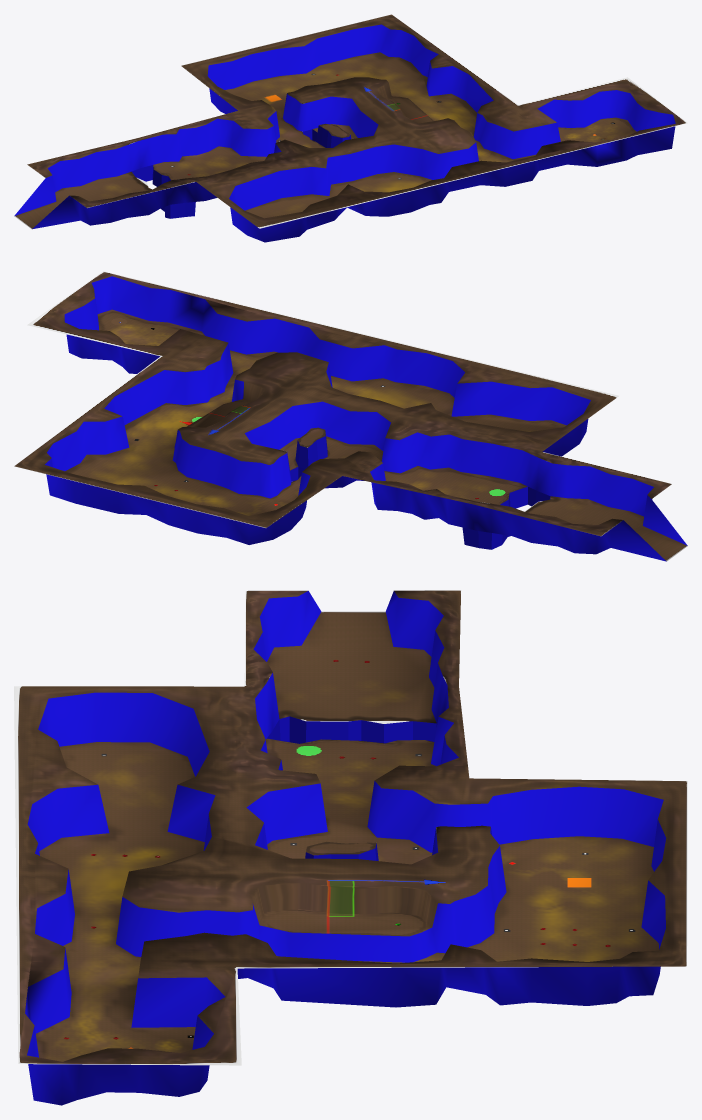
File: levelMesh.fbx
The picture shows the model from 3 angles, top to bottom: view 1: azimuth 30°, elevation 25°; view 2: azimuth 150°, elevation 25°; view 3: azimuth 270°, elevation 25°; orthographic projection. The views are drawn at different scales.
Visible parts, largest first — view 1: Plane001; view 2: Plane001; view 3: Plane001.
Boxes of the visible parts, x1=… form: Plane001: x1=14, y1=14, x2=687, y2=242; Plane001: x1=14, y1=271, x2=687, y2=561; Plane001: x1=14, y1=590, x2=687, y2=1105.
Bounding box in the file's own units: 94.48 × 6.37 × 53.31.
Materials: 2 (1 with a texture image).
